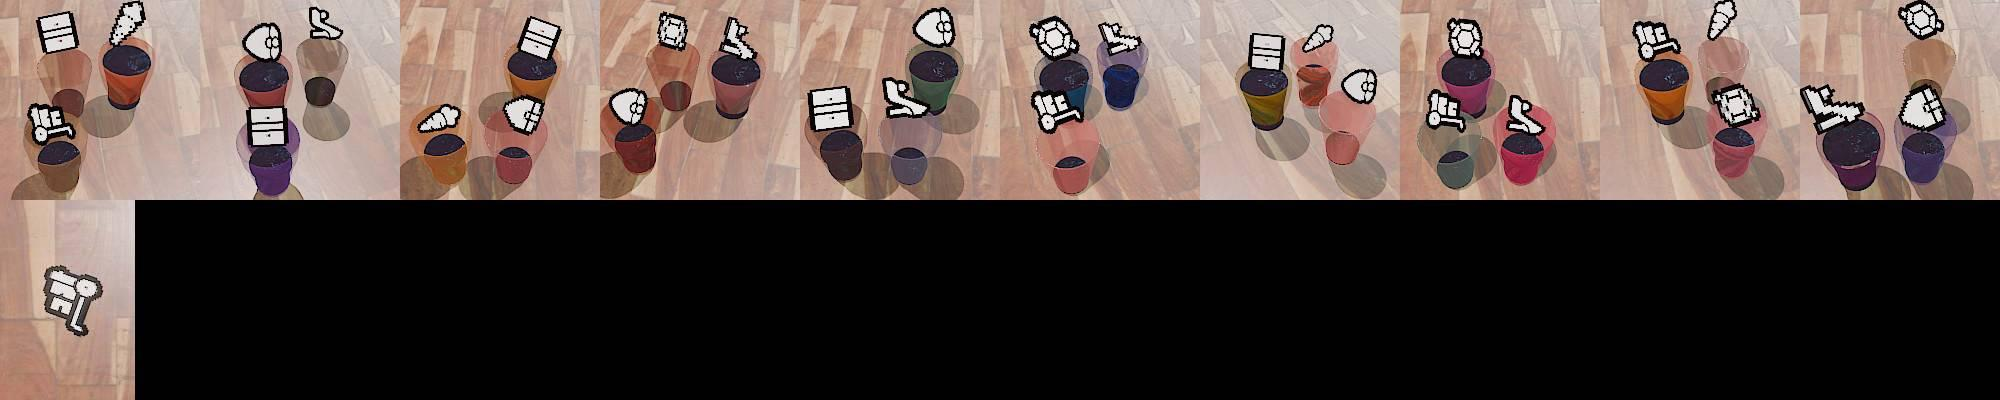icon: (41, 264, 103, 336), (1796, 84, 1866, 134), (1897, 83, 1948, 131), (1029, 15, 1079, 61), (881, 75, 932, 120), (807, 84, 853, 132), (517, 14, 562, 62), (1633, 18, 1682, 62), (1031, 89, 1080, 132), (1712, 83, 1761, 126), (27, 102, 75, 145), (719, 17, 759, 65), (107, 1, 148, 47), (36, 11, 78, 55), (1426, 88, 1467, 132), (912, 8, 957, 48), (1898, 1, 1944, 41), (242, 22, 284, 64), (501, 94, 546, 134), (1506, 93, 1546, 136), (247, 106, 287, 148), (1249, 31, 1287, 74), (1097, 20, 1142, 57), (608, 87, 649, 126), (1446, 18, 1485, 60), (417, 101, 463, 132), (1339, 68, 1378, 104), (1707, 0, 1737, 42), (309, 5, 344, 41), (657, 11, 689, 50), (1300, 22, 1334, 55)
